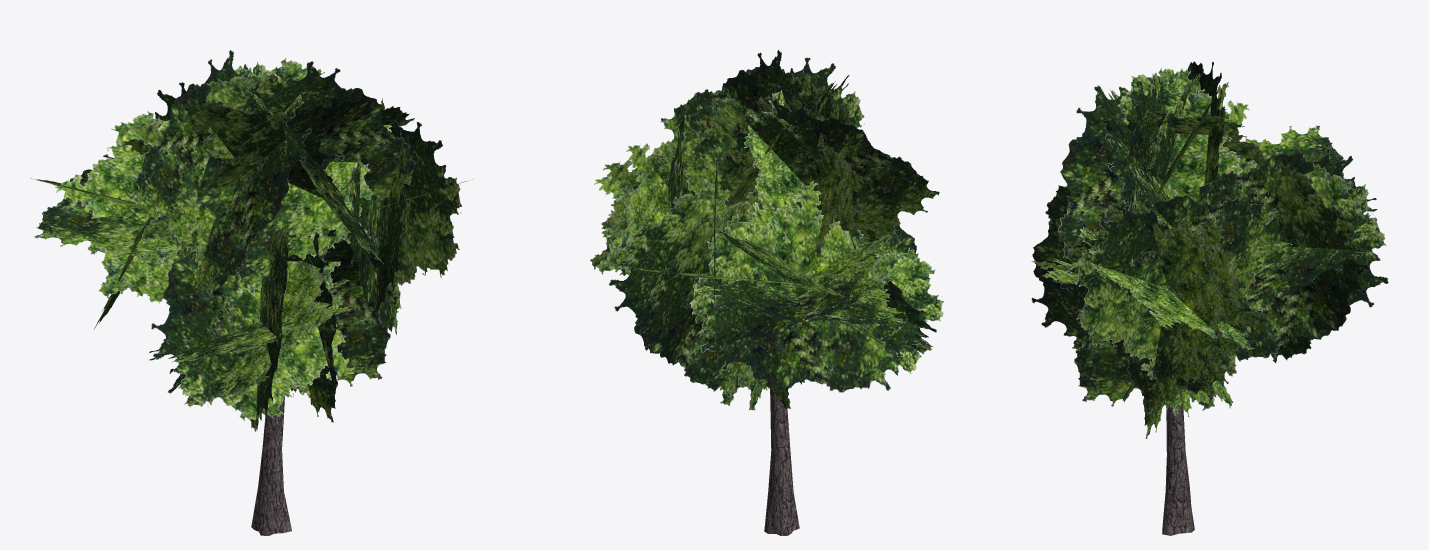
Rendered from tree2.FBX.
The picture shows the model from 3 angles, left to right: view 1: azimuth 30°, elevation 25°; view 2: azimuth 150°, elevation 25°; view 3: azimuth 270°, elevation 25°; orthographic projection. The views are drawn at different scales.
Visible parts, largest first — view 1: tree2; view 2: tree2; view 3: tree2.
Boxes of the visible parts, x1,y1,x2,y2 form: tree2: [30, 50, 473, 535]; tree2: [590, 50, 943, 535]; tree2: [1031, 61, 1388, 535].
Bounding box in the file's own units: 10.8 × 9.96 × 12.6.
